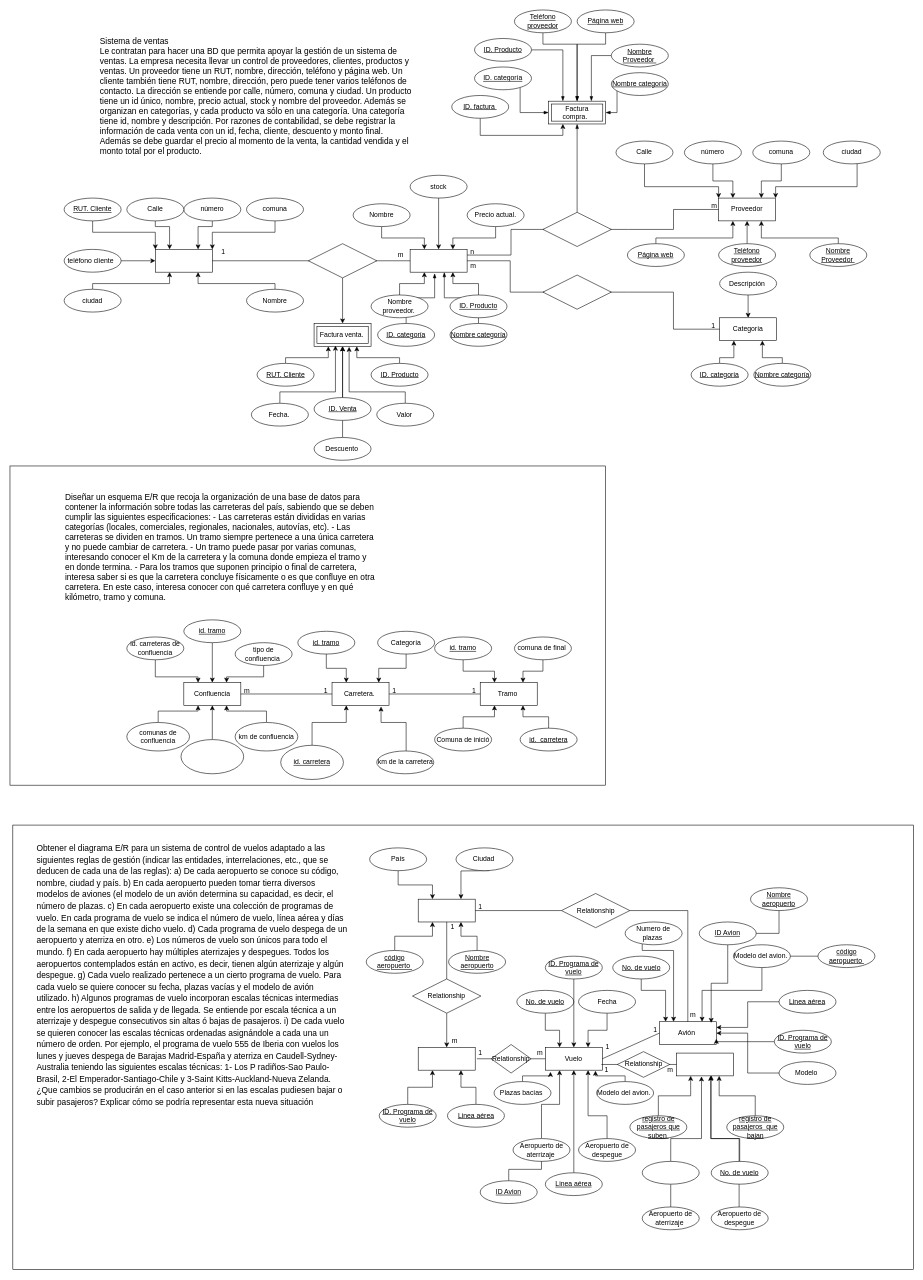
This 923x1280 diagram has some shape labels left out. Here are the shapes that lost their labels. From the top down, the centre of each, then its label:
At pixel 576 229: "se compra".
At pixel 183 260: "Clientes".
At pixel 342 260: "compra".
At pixel 438 260: "Producto".
At pixel 576 291: "tiene".
At pixel 212 756: "id de carretera".
At pixel 446 910: "Aeropuerto".
At pixel 446 1058: "Programa de vuelos".
At pixel 704 1064: "Escala tecnica.".
At pixel 670 1172: "ID. escala".
